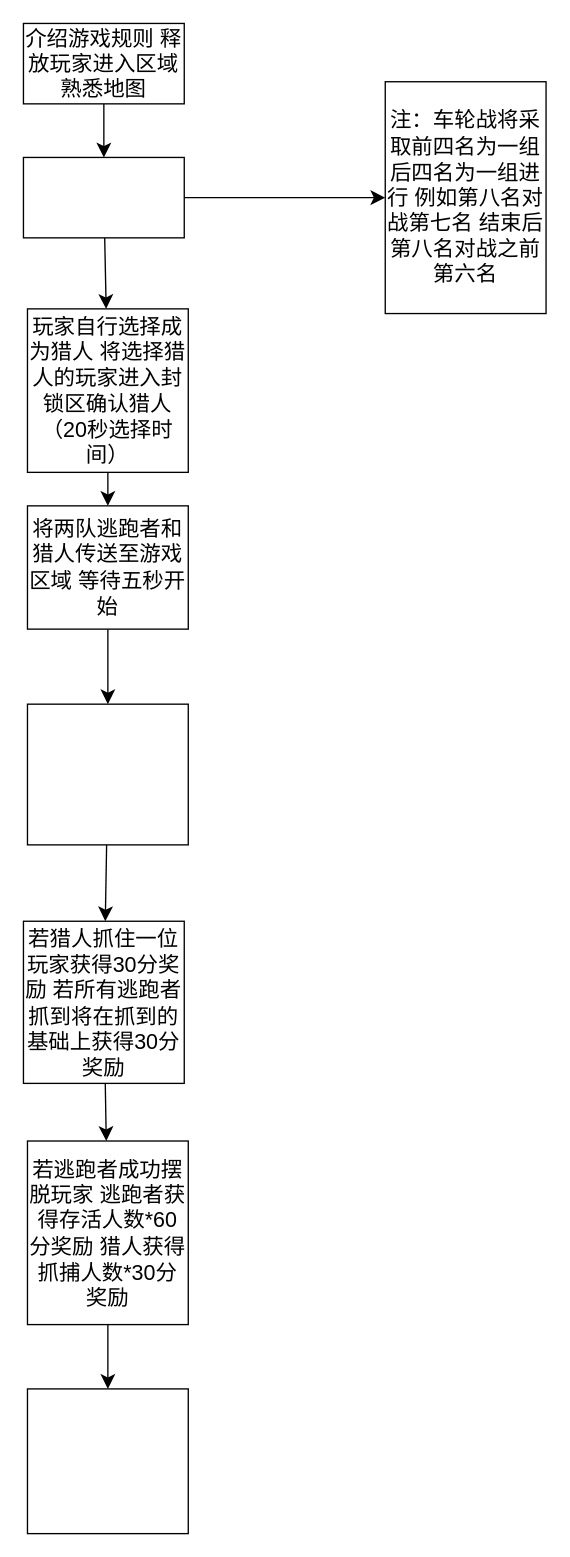
This 570x1557 diagram has some shape labels left out. Here are the shapes that lost their labels. From the top down, the box of each, then its label:
(22, 156, 184, 238): 才用1v1车轮战形式 降两支队伍传送到选择区域
(26, 703, 188, 845): 开始后玩家拥有技能可在五秒内使猎人发光 猎人可以永久看到逃跑者发光
(26, 1388, 188, 1534): 四轮结束后 显示队伍在此游戏的分数和排名 加入分数后的总排名
